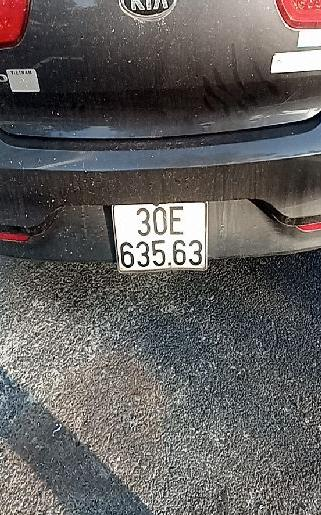Plate-iWeP: (111, 201, 211, 273)
